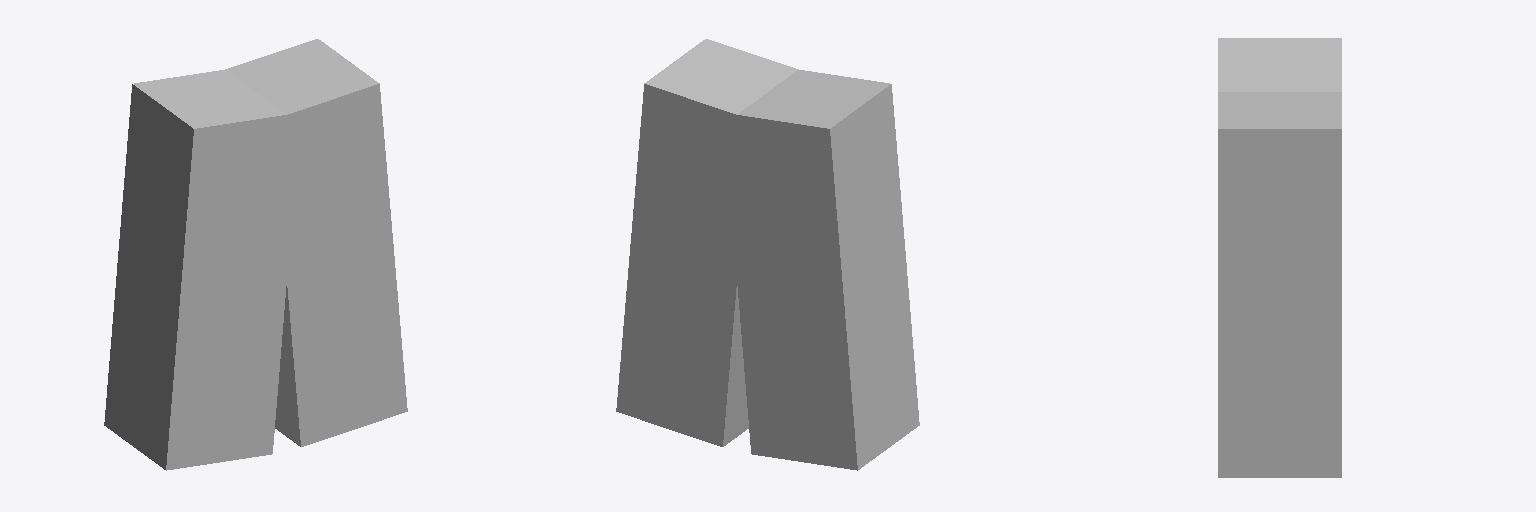
Rendered from arm_kombez_legs.obj.
3 renders of one model, left to right at view 1: azimuth 30°, elevation 25°; view 2: azimuth 150°, elevation 25°; view 3: azimuth 270°, elevation 25°, orthographic.
Visible parts, largest first — view 1: arm_jacket_arm.001_Cube.002; view 2: arm_jacket_arm.001_Cube.002; view 3: arm_jacket_arm.001_Cube.002.
Boxes of the visible parts, <box> form: arm_jacket_arm.001_Cube.002: <box>104,39,407,470</box>; arm_jacket_arm.001_Cube.002: <box>616,39,919,470</box>; arm_jacket_arm.001_Cube.002: <box>1218,38,1341,477</box>.
Size of the model in its own units: 2.26 by 3.08 by 1.